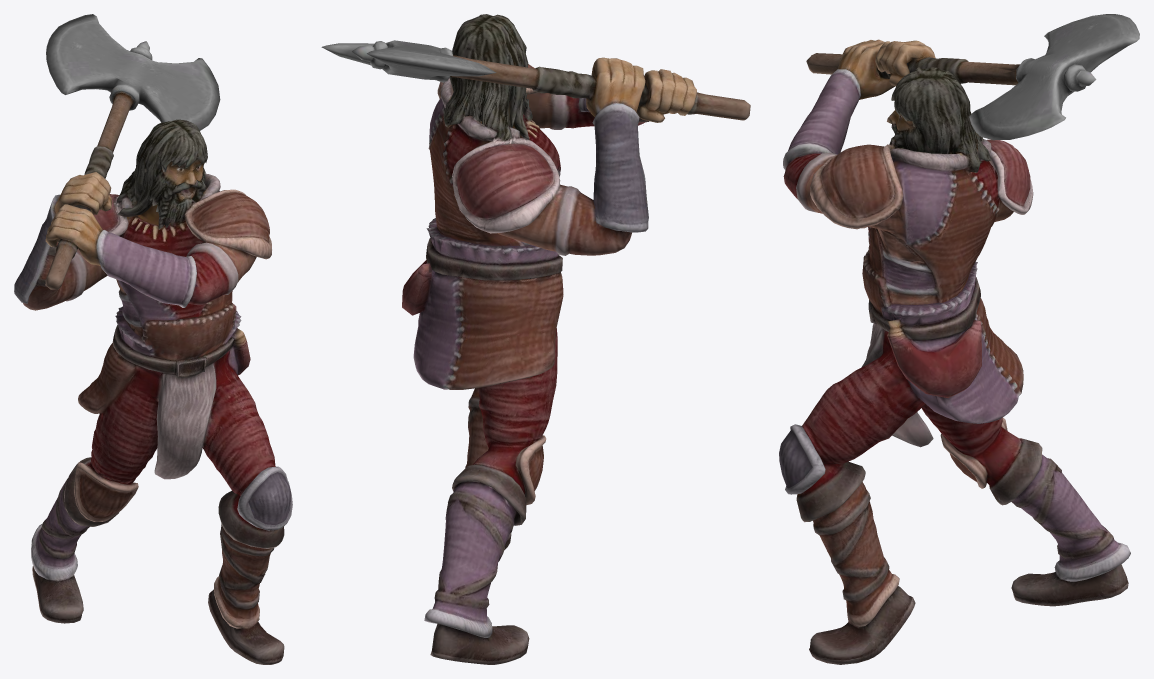
Rendered from MZ4250 - Berserker 03.glb.
The picture shows the model from 3 angles, left to right: view 1: azimuth 30°, elevation 25°; view 2: azimuth 150°, elevation 25°; view 3: azimuth 270°, elevation 25°; orthographic projection. The views are drawn at different scales.
Visible parts, largest first — view 1: Berserker02; view 2: Berserker02; view 3: Berserker02.
Part boxes in pixels (<box>): Berserker02: <box>14,14,292,664</box>; Berserker02: <box>321,14,750,664</box>; Berserker02: <box>779,14,1139,664</box>.
Size of the model in its own units: 0.6101 by 1.19 by 0.6455.
1 material, 1 textured.
